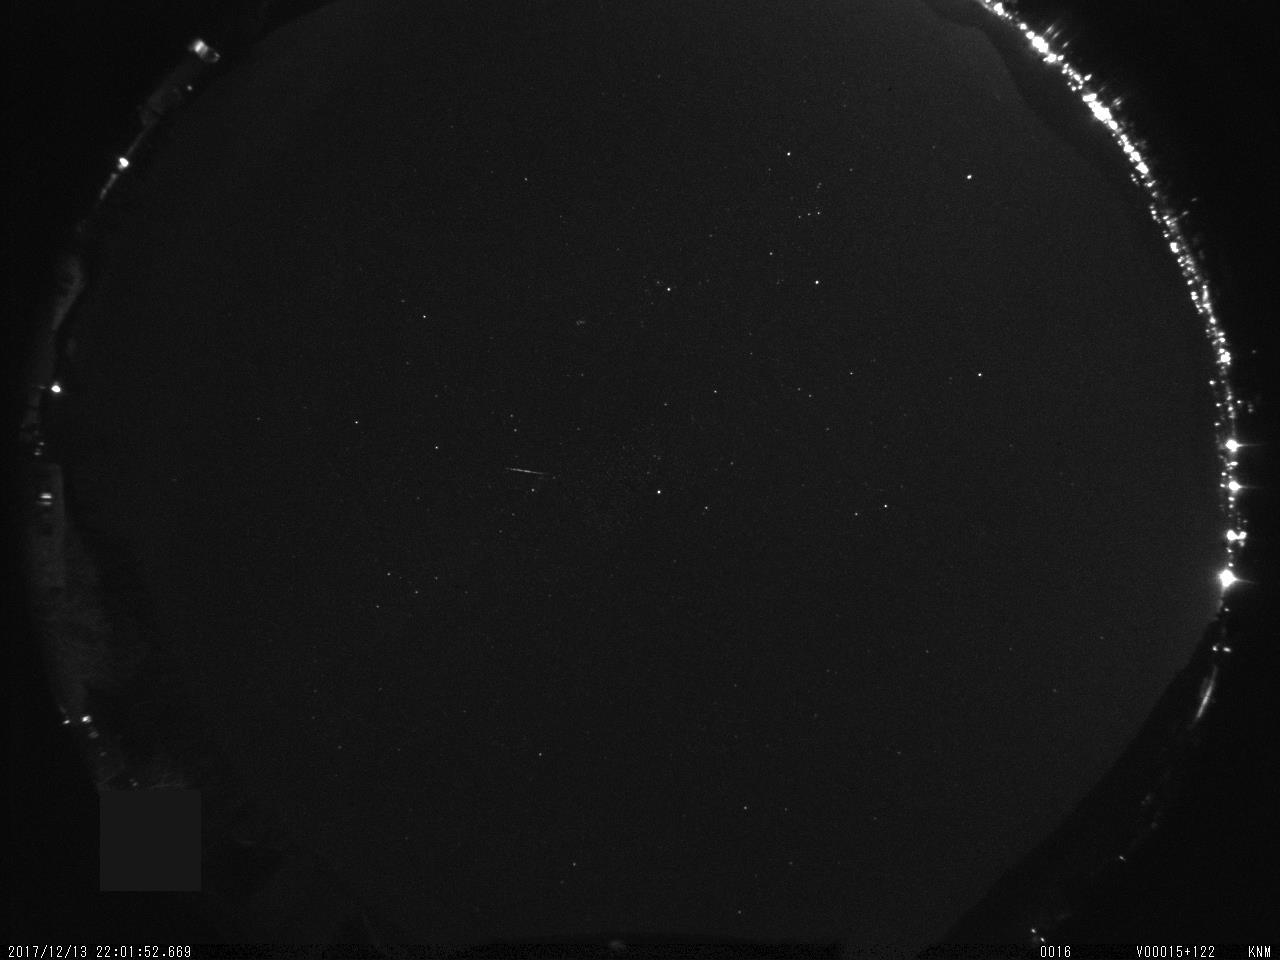meteor: (493, 436, 579, 495)
